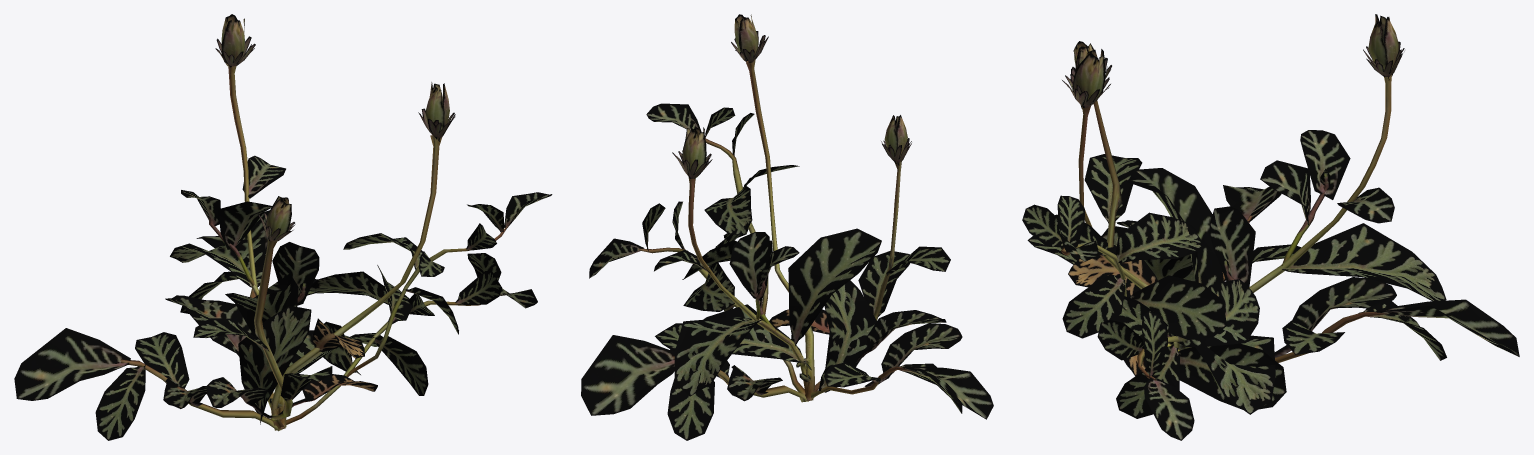
The model's file is flower_ursinia_3.gltf.
3 views of the same model, side by side, from view 1: azimuth 30°, elevation 25°; view 2: azimuth 150°, elevation 25°; view 3: azimuth 270°, elevation 25° (orthographic). The views are drawn at different scales.
Parts seen in each view (by area): view 1: flower_ursinia_d_LOD0; view 2: flower_ursinia_d_LOD0; view 3: flower_ursinia_d_LOD0.
Boxes of the visible parts, x1,y1,x2,y2 form: flower_ursinia_d_LOD0: (14, 14, 552, 440); flower_ursinia_d_LOD0: (581, 14, 993, 440); flower_ursinia_d_LOD0: (1022, 14, 1519, 440).
Bounding box in the file's own units: 0.1862 × 0.1331 × 0.1507.
Materials: 1 (1 with a texture image).
